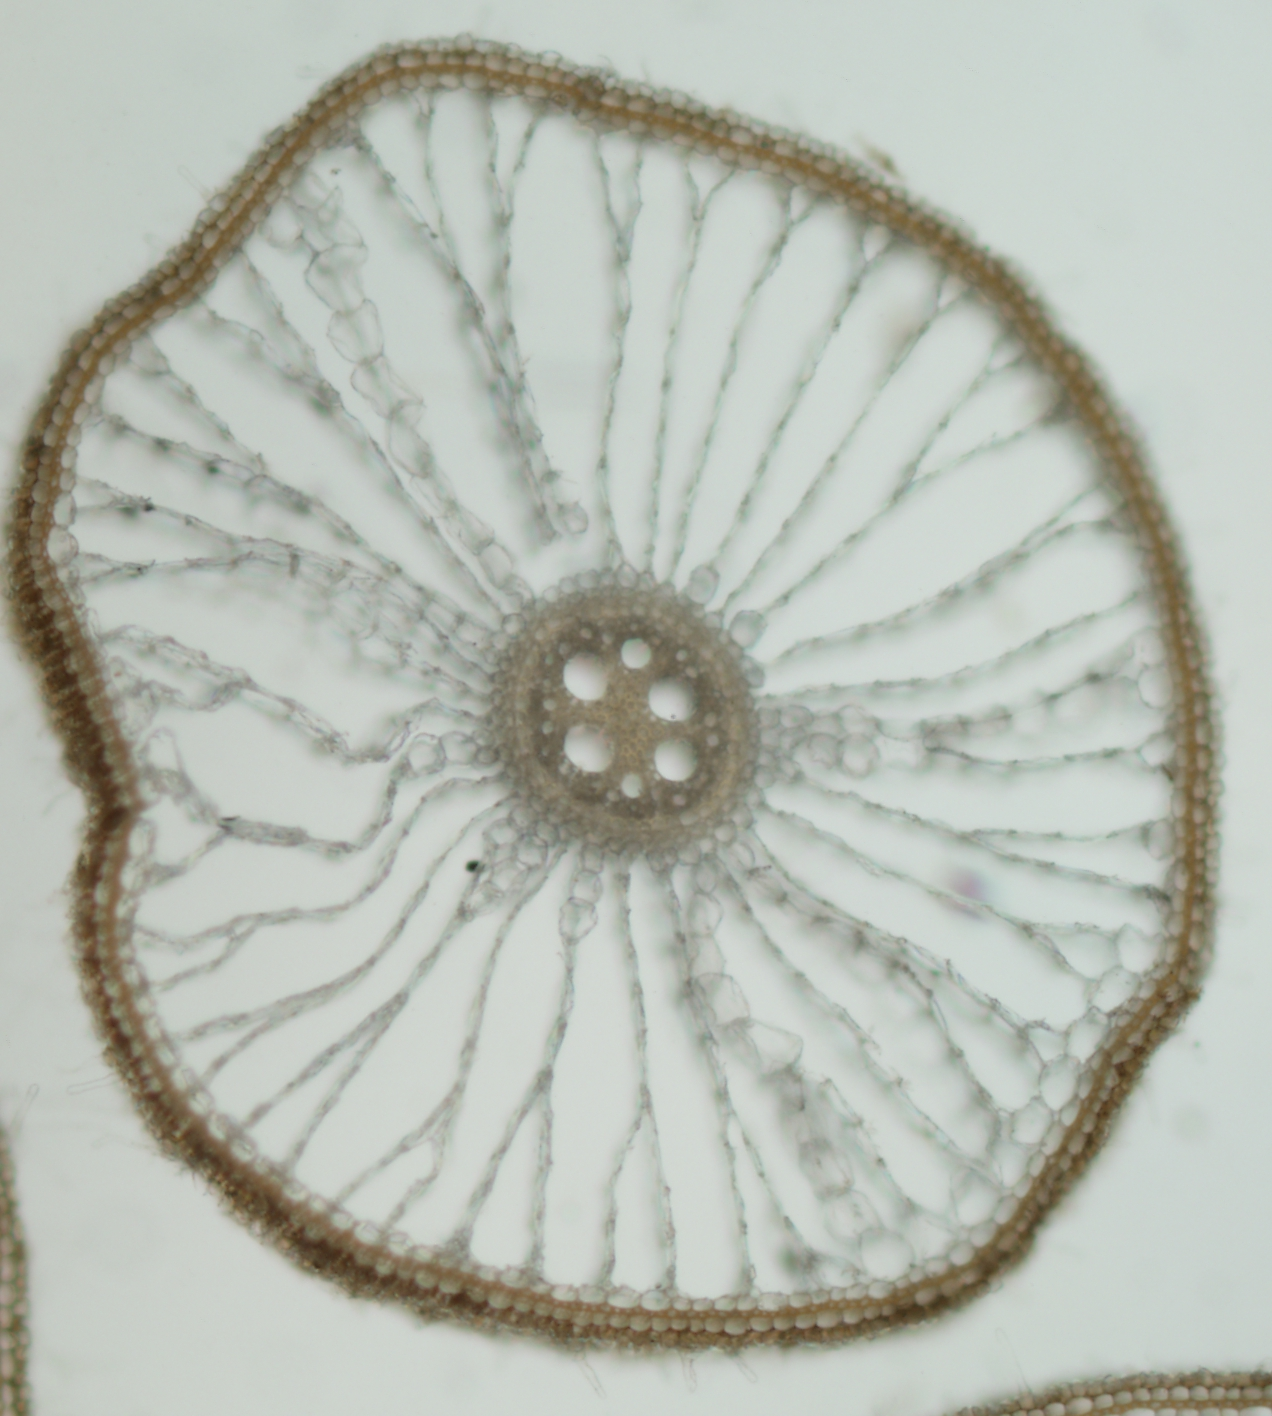lm: (564, 723, 616, 772), (648, 675, 699, 721), (564, 651, 609, 700), (654, 737, 699, 781), (621, 637, 651, 669), (621, 771, 645, 798)
